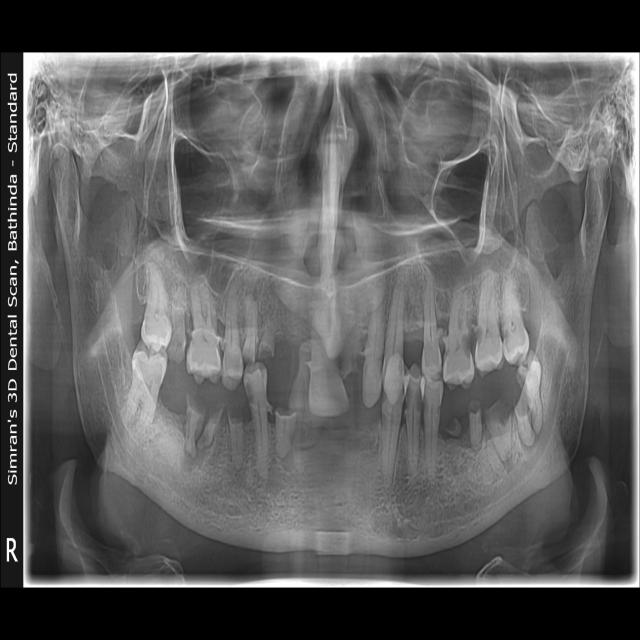Root Piece: (485, 400, 511, 463), (185, 394, 205, 459), (168, 297, 186, 364), (242, 295, 259, 364), (275, 408, 296, 459), (198, 406, 222, 450), (228, 411, 244, 469), (258, 316, 275, 360), (469, 400, 482, 450), (443, 416, 462, 437)
